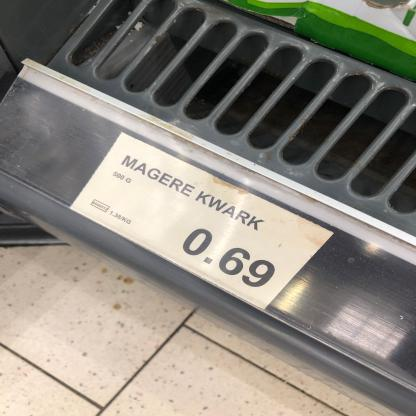prtg: (71, 134, 335, 310)
